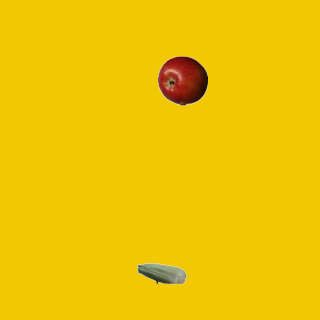Apple Braeburn: (157, 55, 207, 105)
Corn Husk: (136, 248, 186, 298)
